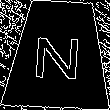N_N: (32, 28, 85, 81)
